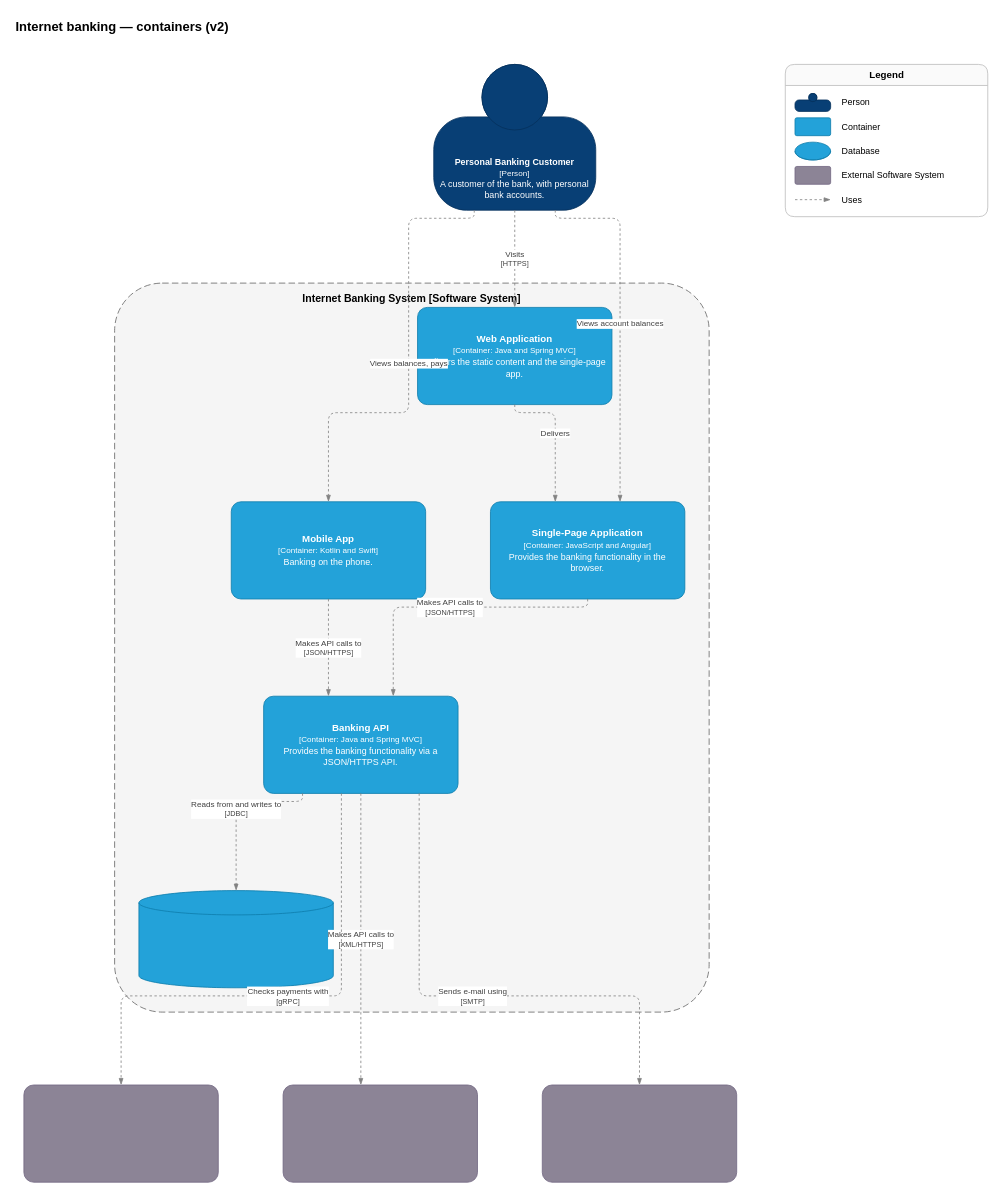
Image size: 1002x1196. Some labels were removed from this diagram. The shapes that lost their labels are listed below. From the top down, each one's centre as x and y in pixels, then its label:
At (x=235, y=939): "Database [Container: Oracle] Stores registration, credentials, access logs.".
At (x=120, y=1133): "Fraud Check [Software System] Scores every payment.".
At (x=379, y=1133): "Mainframe Banking System [Software System] Stores core banking information.".
At (x=639, y=1133): "E-mail System [Software System] The internal Microsoft Exchange e-mail system.".
